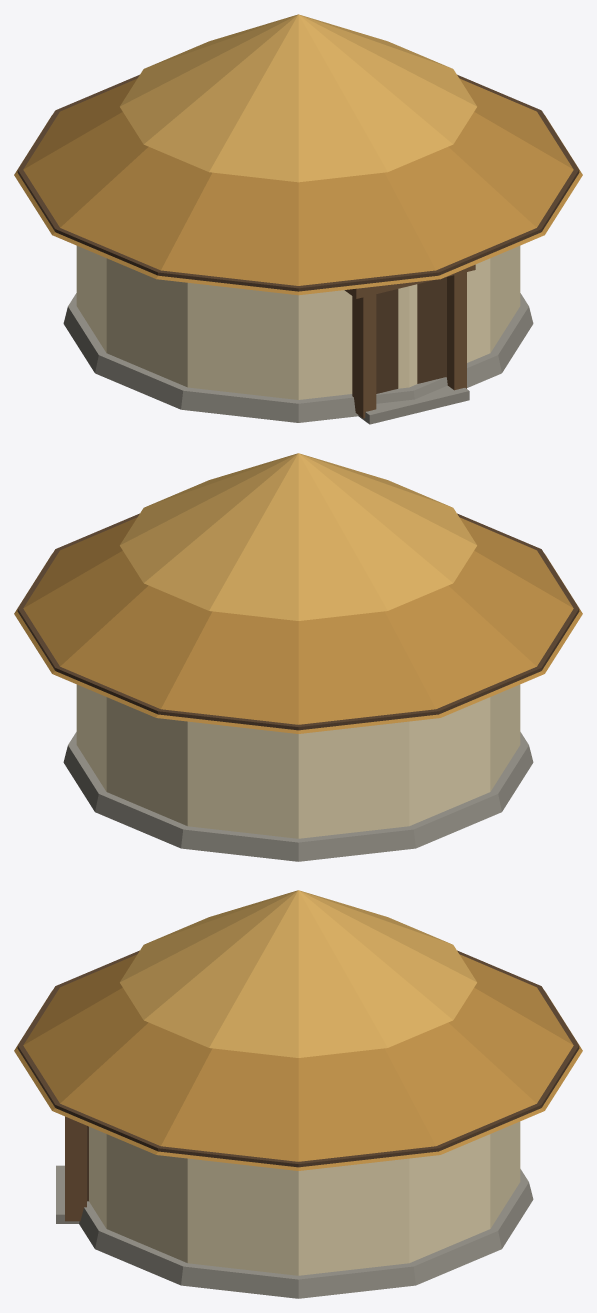
File: hut-0.glb
3 views of the same model, one above another, from view 1: azimuth 30°, elevation 25°; view 2: azimuth 150°, elevation 25°; view 3: azimuth 270°, elevation 25° (orthographic).
Parts seen in each view (by area): view 1: hut-0; view 2: hut-0; view 3: hut-0.
Boxes of the visible parts, x1=… form: hut-0: x1=14, y1=14, x2=582, y2=424; hut-0: x1=14, y1=453, x2=582, y2=861; hut-0: x1=14, y1=890, x2=582, y2=1298.
Size of the model in its own units: 7.7 by 4.62 by 7.7.
